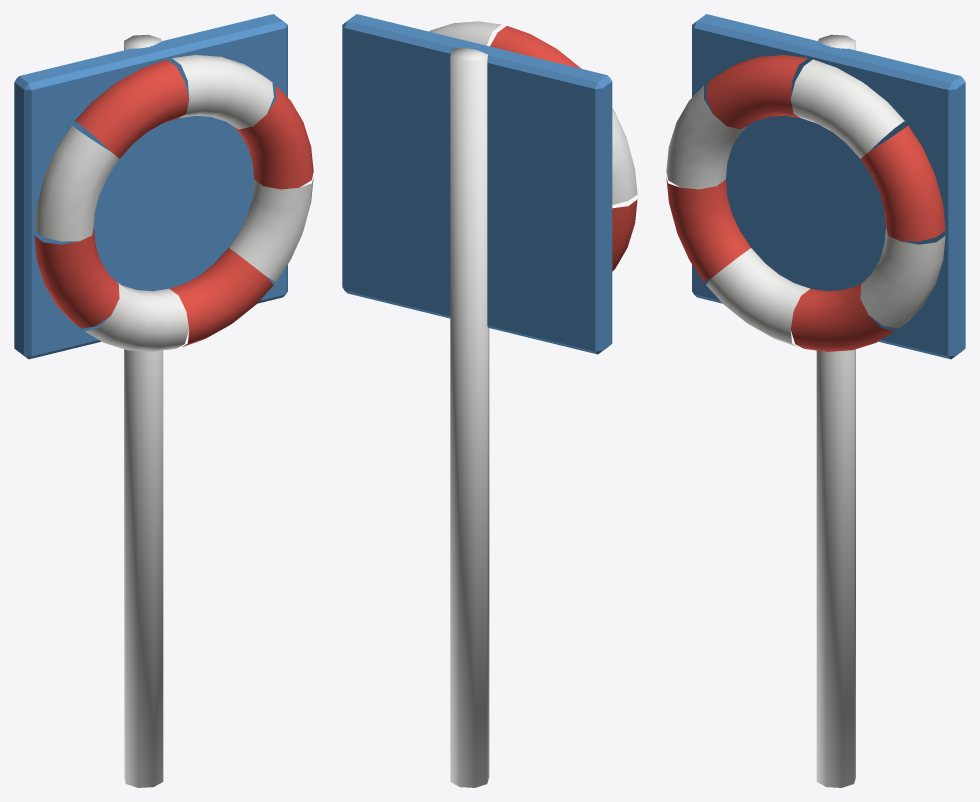
File: lifebuoy_post.glb
3 views of the same model, side by side, from view 1: azimuth 30°, elevation 25°; view 2: azimuth 150°, elevation 25°; view 3: azimuth 330°, elevation 25° (orthographic).
Parts seen in each view (by area): view 1: lifebuoy_post; view 2: lifebuoy_post; view 3: lifebuoy_post.
Boxes of the visible parts, bbox=[...] form: lifebuoy_post: bbox=[14, 14, 313, 787]; lifebuoy_post: bbox=[342, 14, 637, 787]; lifebuoy_post: bbox=[666, 14, 965, 787].
Size of the model in its own units: 0.6136 by 1.61 by 0.22.
